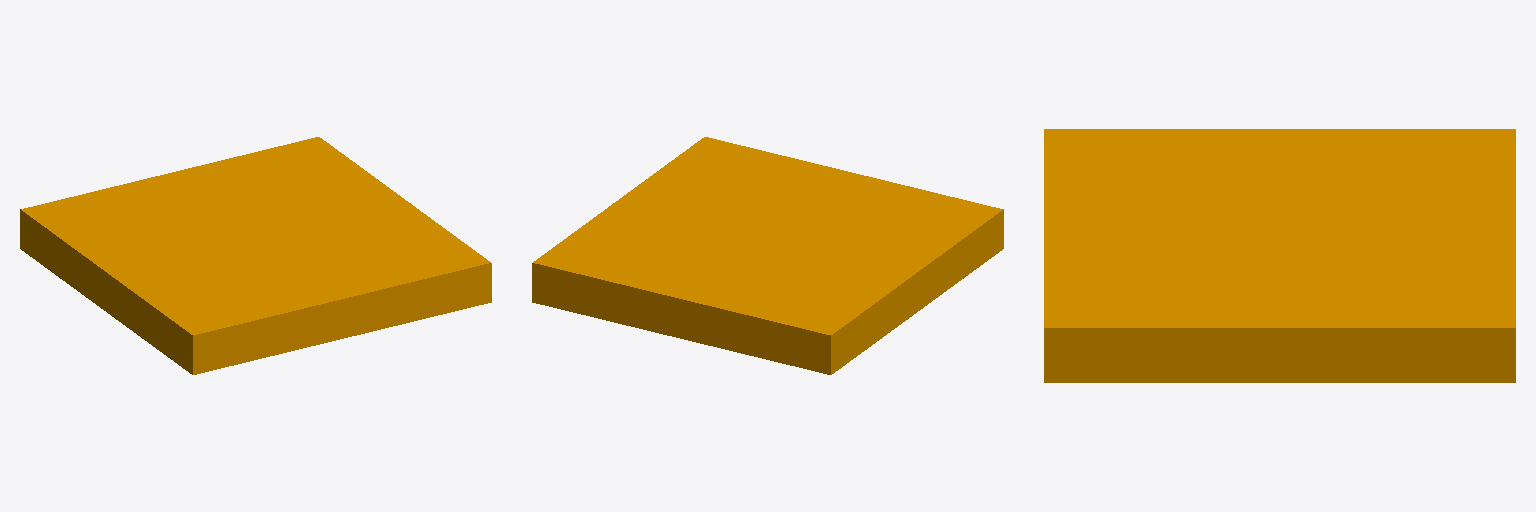
robot.urdf — apriltag_6_3611:
<robot name="apriltag_6_3611">

    <link name="apriltag_link_id6">
        <inertial>
            <origin xyz="0 0 0" rpy="0 0 0"/>
            <mass value="1.0"/>
            <inertia ixx="0.07461" ixy="0.0" ixz="0.0" iyy="0.5854" iyz="0.0" izz="0.02641"/>
        </inertial>
        <collision>
            <origin xyz="0 0 0" rpy="0 0 0"/>
            <geometry>
                <box size="0.2 0.2 0.1"/>
            </geometry>
        </collision>
        <visual>
            <origin xyz="0 0 0" rpy="0 0 0"/>
            <geometry>
                <mesh filename="package://apriltag_description/meshes/apriltag_6.dae"/>
            </geometry>
        </visual>
    </link>
    
    <gazebo reference="apriltag_link_id6">
        <kp>100000.0</kp>
        <kd>100000.0</kd>
        <mu1>0.1</mu1>
        <mu2>0.1</mu2>  
        <fdir1>1 0 0</fdir1>

           <!-- this tag may be unecessary if static is set to true
            (but using since may set static to false later)-->
        <gravity>0</gravity>
    </gazebo>

    <!-- Make sure that the reference="" attribute is not specified -->
    <gazebo>
        <static>true</static>
     
        
    </gazebo>
    

</robot>

--- Render facts (derived) ---
3 views of the same robot in one strip: view 1: azimuth 30°, elevation 25°; view 2: azimuth 150°, elevation 25°; view 3: azimuth 270°, elevation 25° (orthographic).
Model apriltag_6_3611 with 1 links and 0 joints (none), rooted at apriltag_link_id6, posed all joints at 0.
Visible links, largest first — view 1: apriltag_link_id6; view 2: apriltag_link_id6; view 3: apriltag_link_id6.
Boxes of the visible links, left/top/right/bottom form: apriltag_link_id6: left=20, top=137, right=491, bottom=374; apriltag_link_id6: left=532, top=137, right=1003, bottom=374; apriltag_link_id6: left=1044, top=129, right=1515, bottom=382.
Bounding box of the posed robot: 0.16 × 0.16 × 0.0204 m (x, y, z).
Meshes: 1 distinct files referenced, 1 mesh visuals loaded (1 Collada DAE).